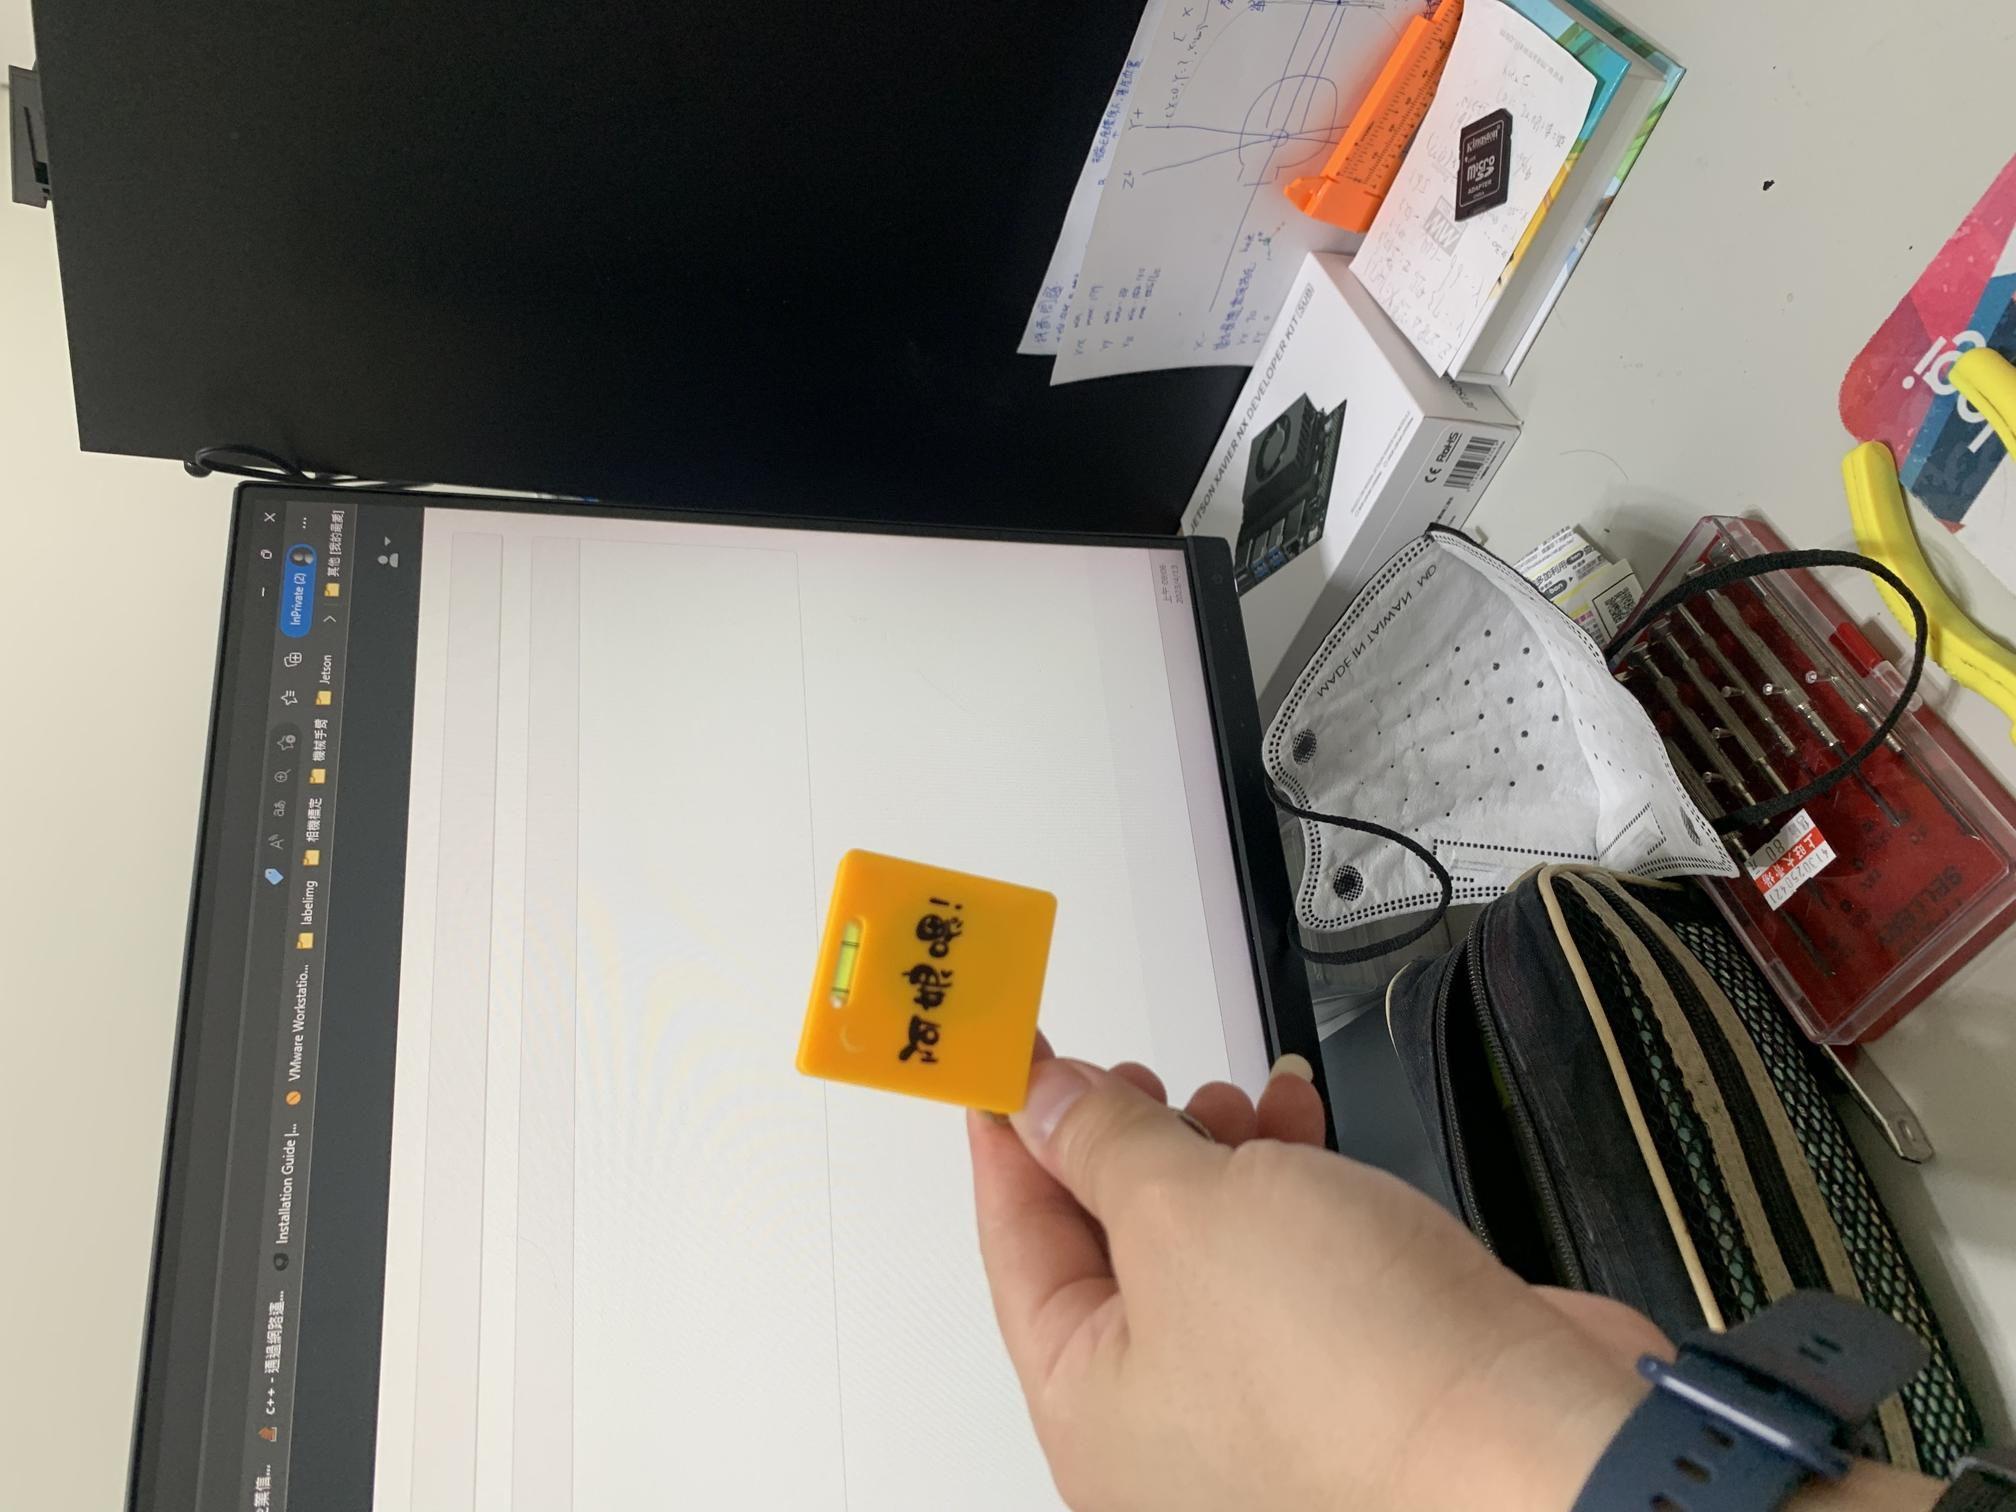Laio: (760, 830, 1065, 1115)
